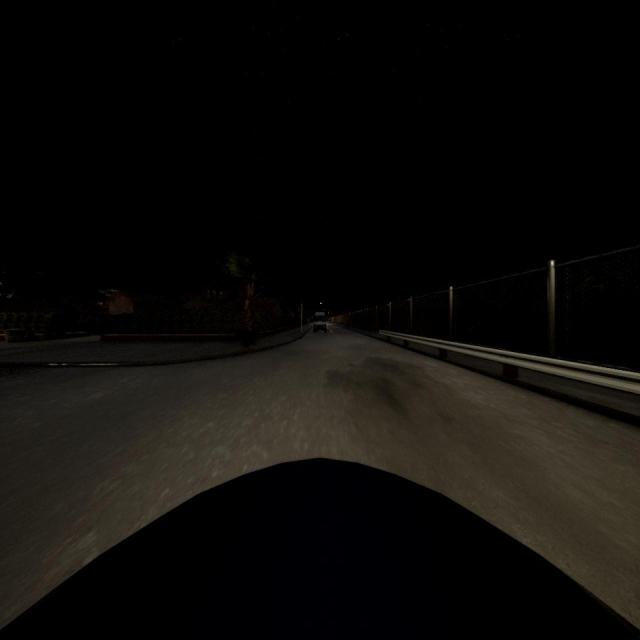Vehicle: (1, 456, 640, 640), (313, 312, 327, 334)
